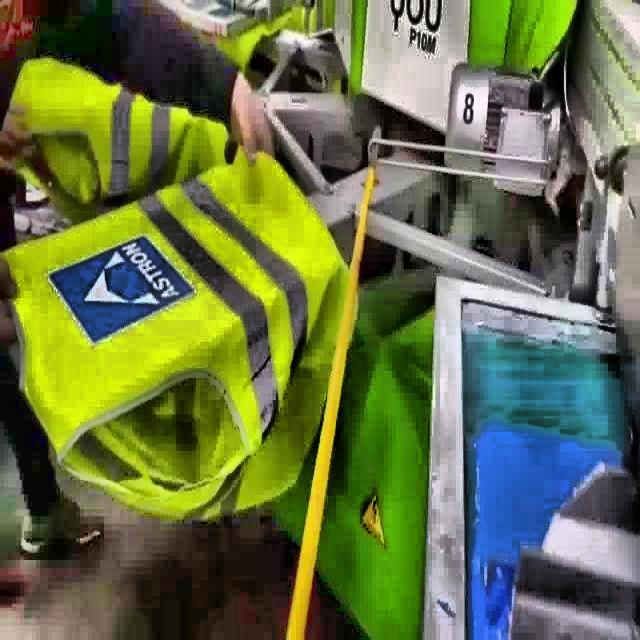safety_jacket: (0, 145, 360, 521), (3, 54, 229, 214)
